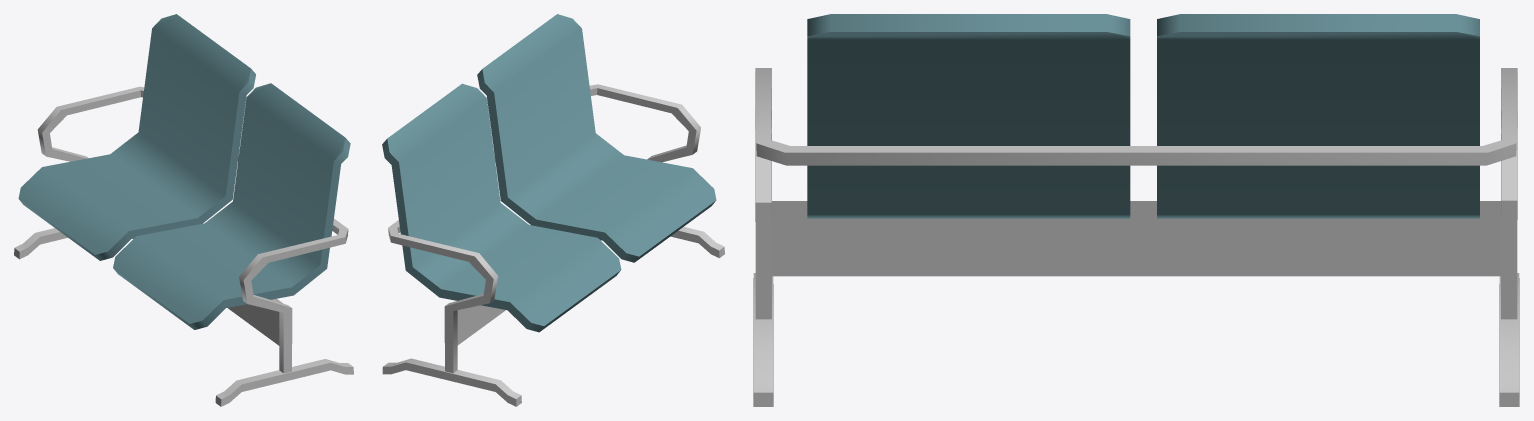
Rendered from SM_Chair_03.fbx.
3 renders of one model, left to right at view 1: azimuth 30°, elevation 25°; view 2: azimuth 150°, elevation 25°; view 3: azimuth 270°, elevation 25°, orthographic. The views are drawn at different scales.
Visible parts, largest first — view 1: SM_Chair_03; view 2: SM_Chair_03; view 3: SM_Chair_03.
Part boxes in pixels (x1,y1,x2,y2): SM_Chair_03: (14,14,353,406); SM_Chair_03: (382,14,724,406); SM_Chair_03: (753,14,1519,406).
Bounding box in the file's own units: 70.33 × 90.59 × 156.
